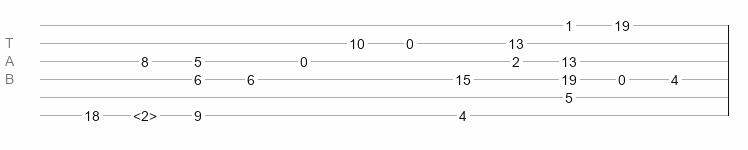0: (300, 54, 308, 64), (406, 36, 414, 46), (618, 72, 626, 82)
1: (565, 18, 573, 28)
10: (349, 36, 365, 46)
13: (508, 36, 524, 46), (561, 54, 577, 64)
15: (455, 72, 471, 82)
18: (84, 108, 100, 118)
19: (561, 72, 577, 82), (614, 18, 630, 28)
2: (512, 54, 520, 64)
4: (459, 108, 467, 118), (671, 72, 679, 82)
5: (194, 54, 202, 64), (565, 90, 573, 100)
6: (194, 72, 202, 82), (247, 72, 255, 82)
8: (141, 54, 149, 64)
9: (194, 108, 202, 118)
harmonic: (133, 108, 157, 118)
